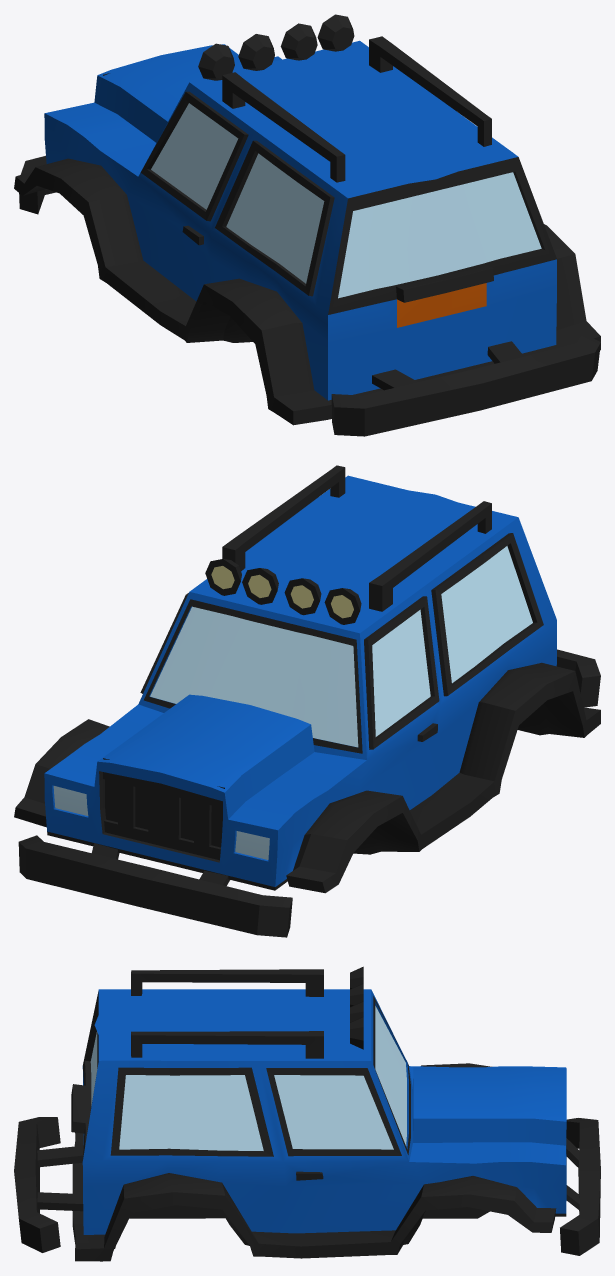
Rendered from jeep_body3.glb.
3 renders of one model, top to bottom at view 1: azimuth 30°, elevation 25°; view 2: azimuth 150°, elevation 25°; view 3: azimuth 270°, elevation 25°, orthographic. The views are drawn at different scales.
Visible parts, largest first — view 1: jeep_body; view 2: jeep_body; view 3: jeep_body.
Part boxes in pixels (<box>): jeep_body: <box>14,14,600,436</box>; jeep_body: <box>14,465,600,937</box>; jeep_body: <box>14,966,600,1261</box>.
Size of the model in its own units: 1.72 by 1.24 by 3.19.
1 material, 1 textured.
